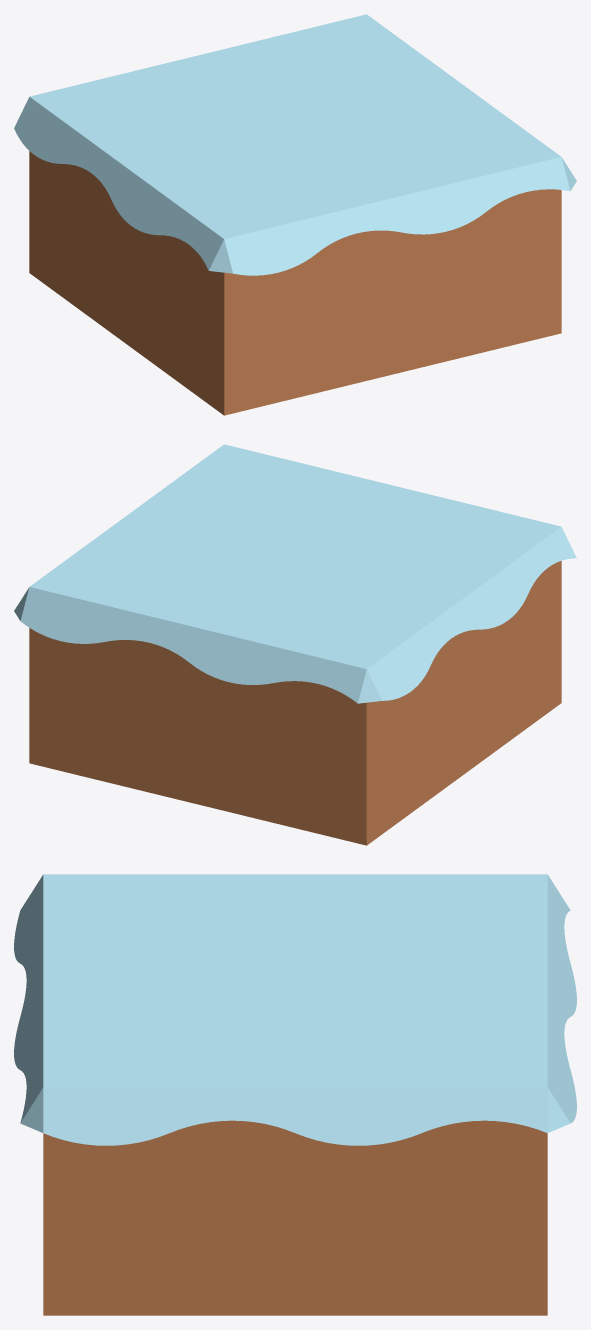
Rendered from blockSnowLarge.dae.
3 renders of one model, top to bottom at view 1: azimuth 30°, elevation 25°; view 2: azimuth 150°, elevation 25°; view 3: azimuth 270°, elevation 25°, orthographic. The views are drawn at different scales.
Parts seen in each view (by area): view 1: blockSnowLarge; view 2: blockSnowLarge; view 3: blockSnowLarge.
Boxes of the visible parts, x1=… form: blockSnowLarge: x1=14, y1=14, x2=576, y2=415; blockSnowLarge: x1=14, y1=444, x2=576, y2=845; blockSnowLarge: x1=14, y1=874, x2=576, y2=1315.
Bounding box in the file's own units: 2.23 × 1 × 2.23.
